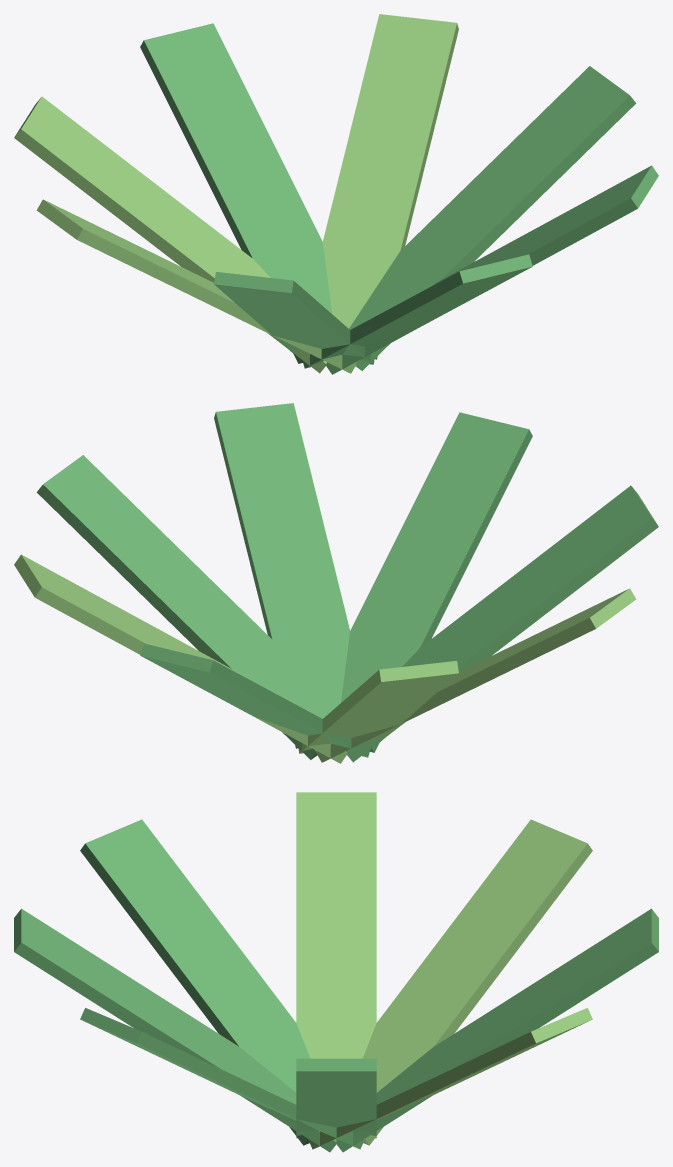
File: Foliage_Fern.fbx
3 views of the same model, one above another, from view 1: azimuth 30°, elevation 25°; view 2: azimuth 150°, elevation 25°; view 3: azimuth 270°, elevation 25° (orthographic).
Visible parts, largest first — view 1: Foliage_Fern; view 2: Foliage_Fern; view 3: Foliage_Fern.
Boxes of the visible parts, x1,y1,x2,y2 form: Foliage_Fern: (14,14,658,374); Foliage_Fern: (14,403,658,763); Foliage_Fern: (14,792,658,1152).
Size of the model in its own units: 2.01 by 0.7211 by 2.01.
